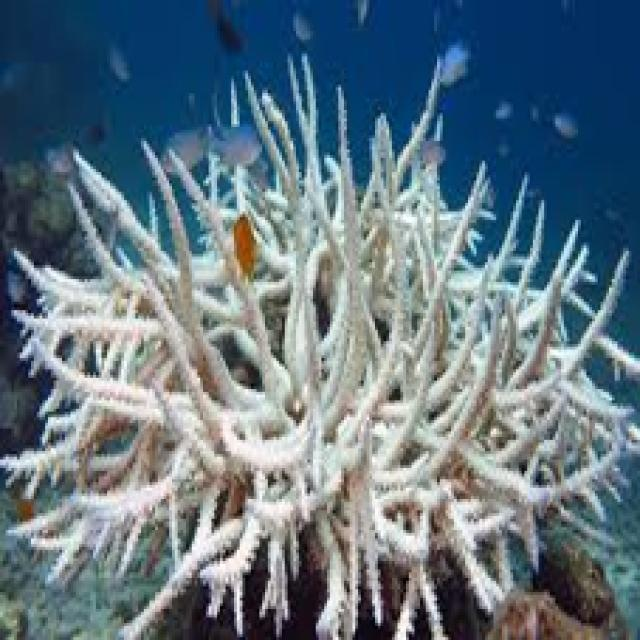Bleached: (1, 57, 638, 638)
